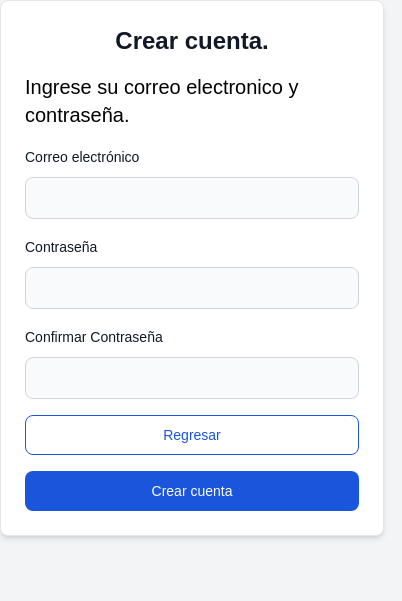
Test: UserRegistration › shows validation error for password too short
Type "test@example.com" into the field labelled "Correo electrónico" at (192, 198), box [25, 177, 359, 219]
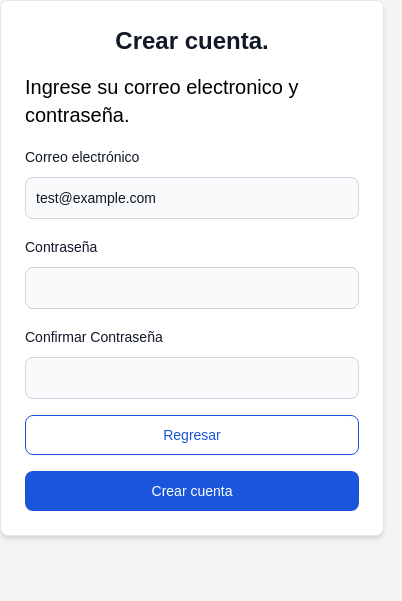
Type "Short1!" into the password field with test id "password" at (192, 288), box [25, 267, 359, 309]
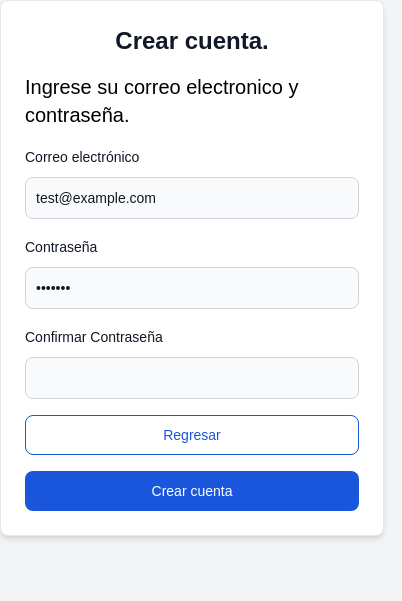
Type "Short1!" into the password field with test id "confirmPassword" at (192, 378), box [25, 357, 359, 399]
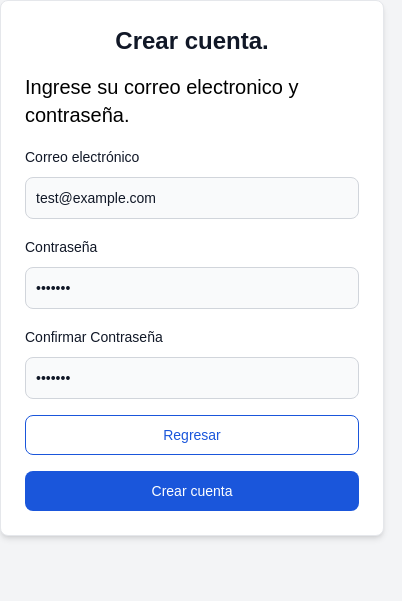
Click the button "Crear cuenta" at (192, 491), box [25, 471, 359, 511]
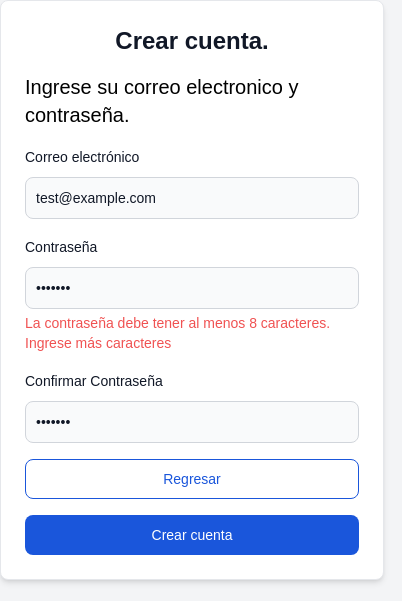
Result: the text "La contraseña debe tener al menos 8 caracteres" is shown at [25, 315, 330, 351]
